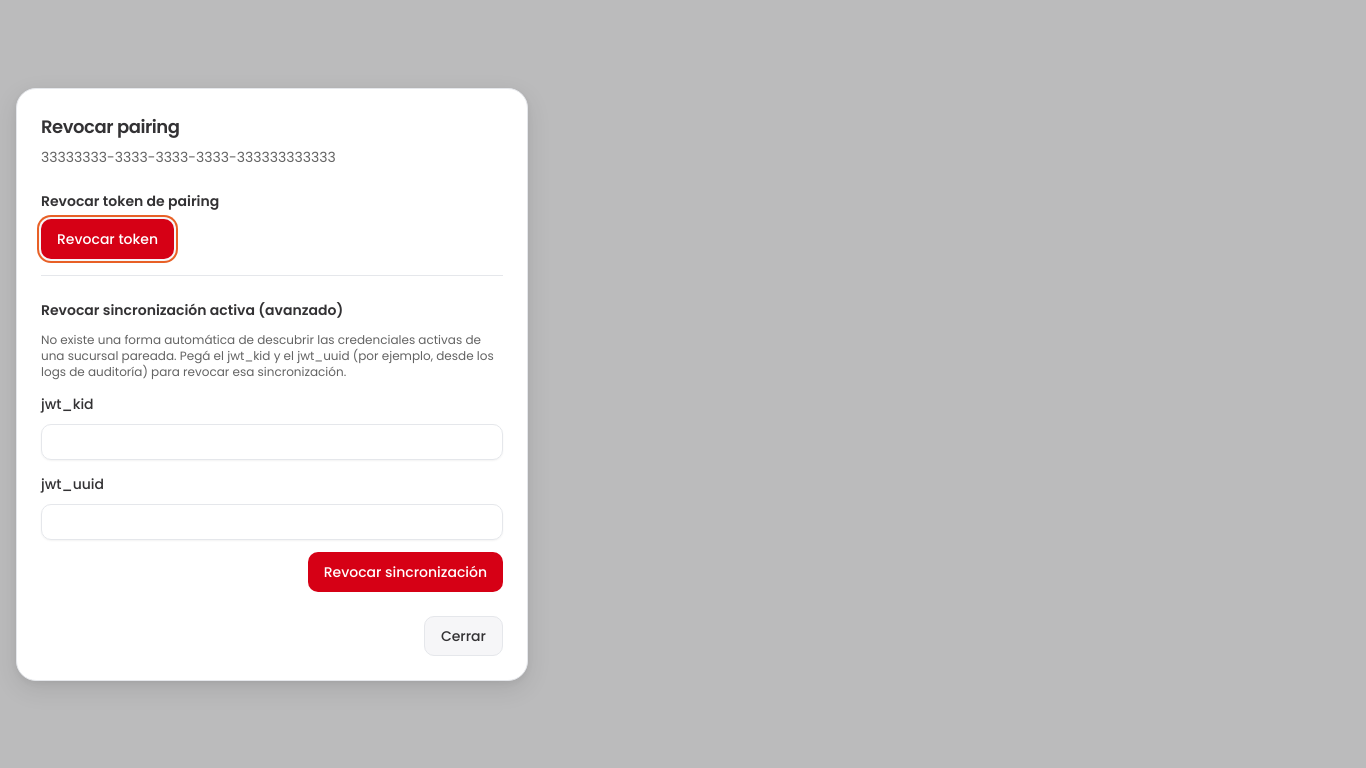
Test case: RevocarPairingModal › a failure in one section does not disable the other
Step 1. Click the button with test id "revocar-pairing-token-confirm" → (108, 238), box [41,218,174,258]
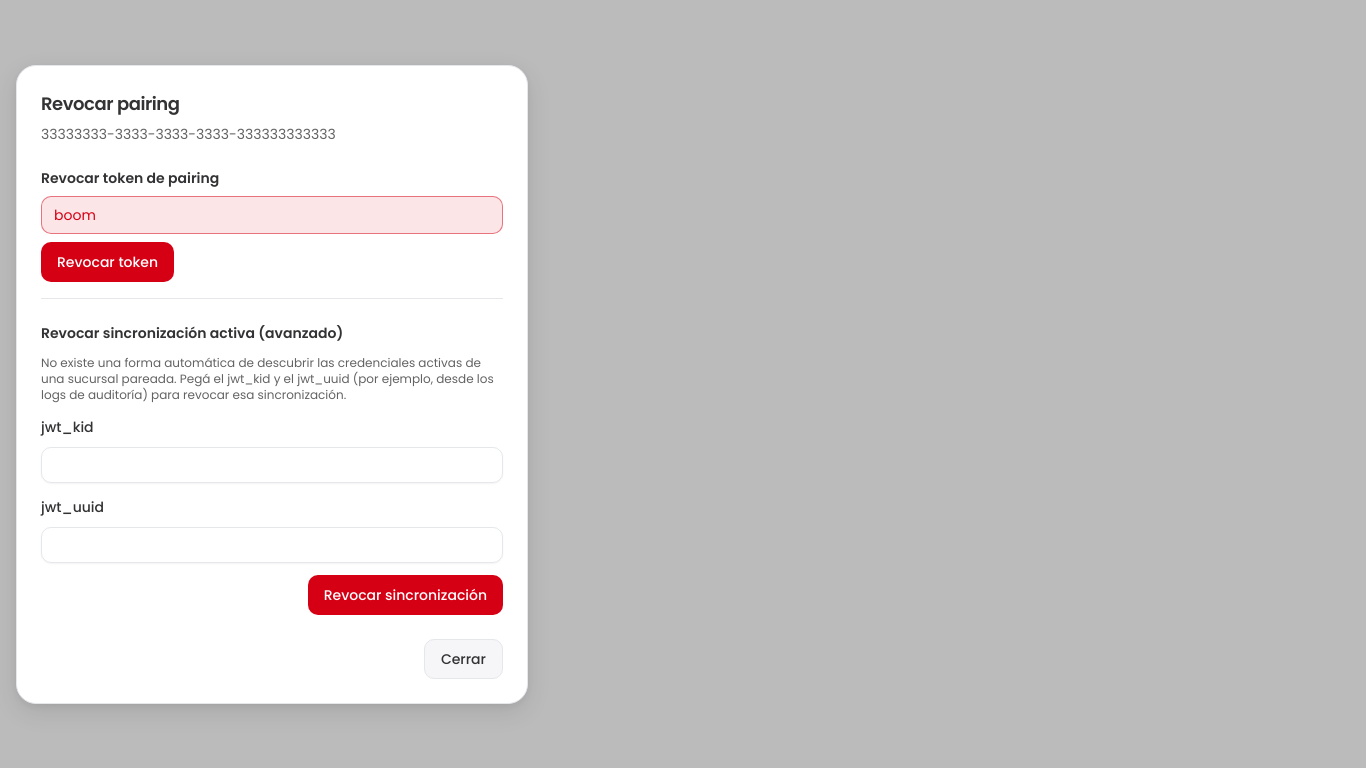
Expected: the field with test id "revocar-sync-jwt-kid" is enabled, [41,446,503,482]
Expected: the message "boom" is shown, [41,196,503,234]
